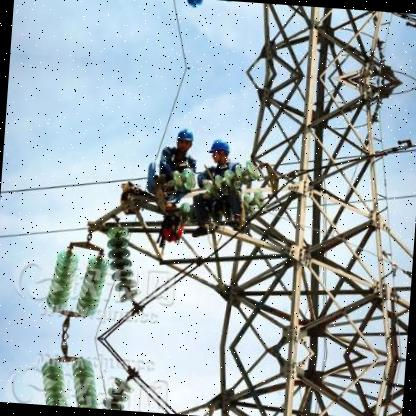capacete: (205, 134, 236, 158), (174, 126, 200, 148)
